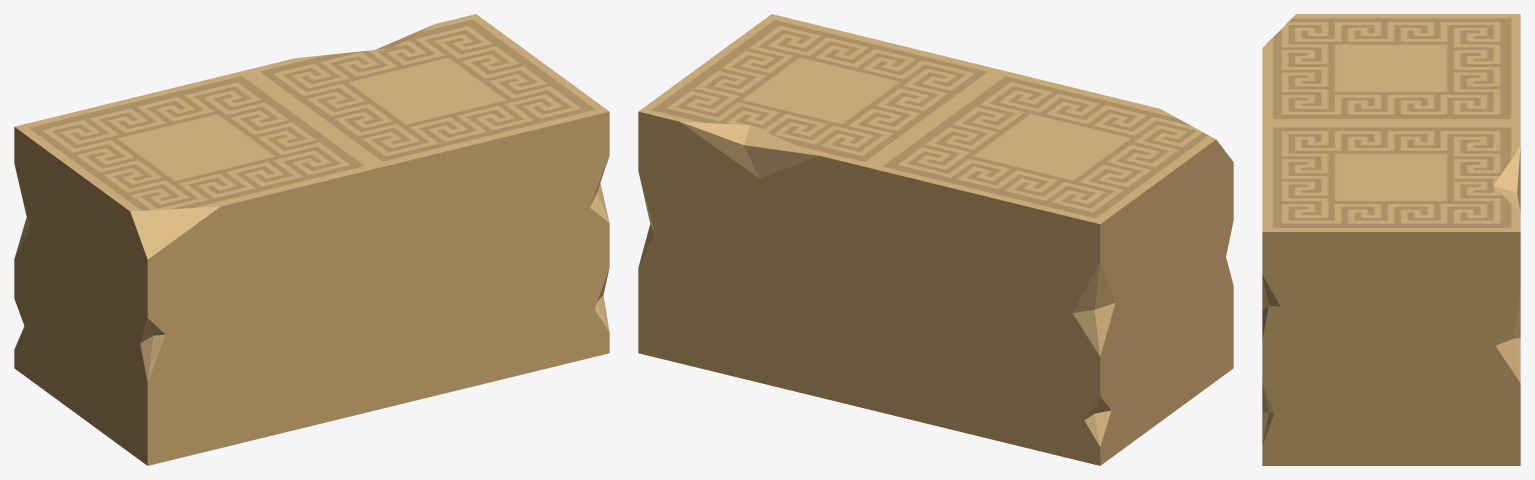
File: ST_Env_Block_011.fbx
3 views of the same model, side by side, from view 1: azimuth 30°, elevation 25°; view 2: azimuth 150°, elevation 25°; view 3: azimuth 270°, elevation 25° (orthographic). The views are drawn at different scales.
Visible parts, largest first — view 1: ST_Env_Block_011; view 2: ST_Env_Block_011; view 3: ST_Env_Block_011.
Boxes of the visible parts, <box> form: ST_Env_Block_011: <box>14,14,609,465</box>; ST_Env_Block_011: <box>638,14,1233,465</box>; ST_Env_Block_011: <box>1262,14,1520,465</box>.
Bounding box in the file's own units: 10 × 5 × 5.
